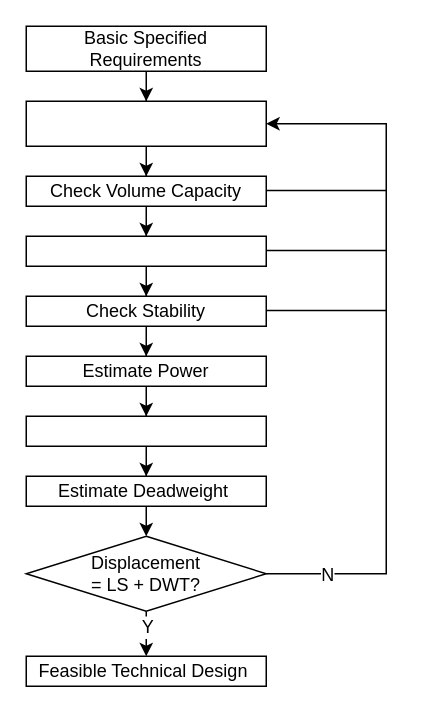
The diagram is 425 pixels wide and 713 high, and some of its shapes have lost their labels. The shapes that lost their labels are listed below. From the top down, each one's box as (x1, y1, x2, y2) in pixels, then its label:
(25, 100, 266, 146): Estimate Dimensions and Hence Displacement
(25, 235, 266, 266): Check Freeboard
(25, 415, 266, 446): Estimate Lightship Mass
